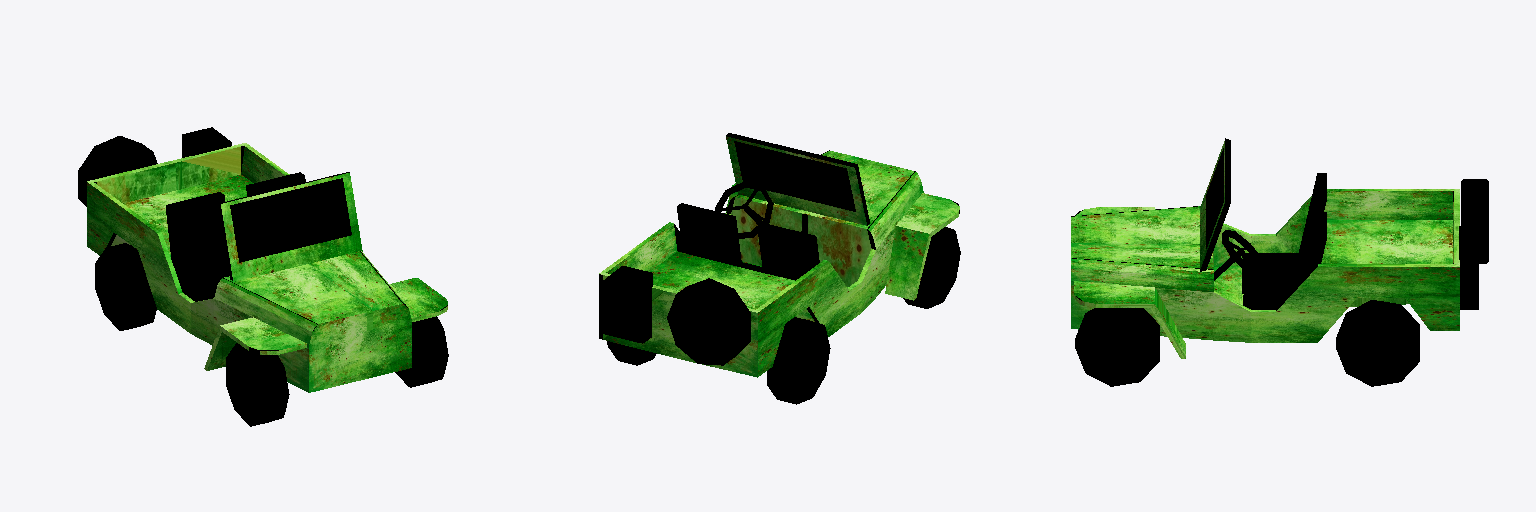
3 views of the same model, side by side, from view 1: azimuth 30°, elevation 25°; view 2: azimuth 150°, elevation 25°; view 3: azimuth 270°, elevation 25° (orthographic).
Visible parts, largest first — view 1: Jeep:Object22; view 2: Jeep:Object22; view 3: Jeep:Object22.
Boxes of the visible parts, <box> form: Jeep:Object22: <box>78,127,448,426</box>; Jeep:Object22: <box>599,133,960,404</box>; Jeep:Object22: <box>1071,138,1488,386</box>.
Bounding box in the file's own units: 0.5784 × 0.4885 × 1.06.
Materials: 4 (1 with a texture image).